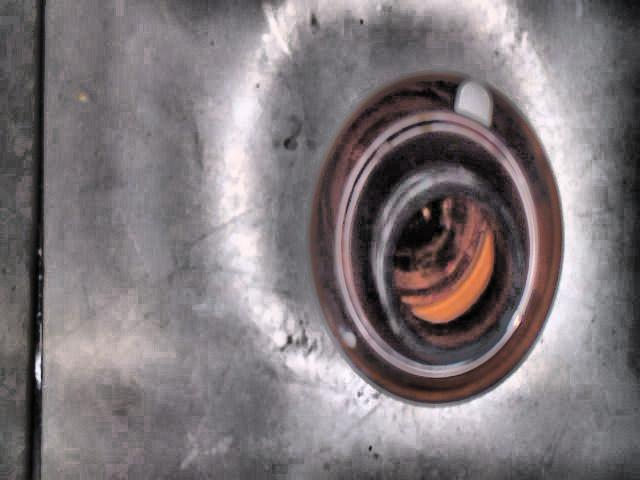Bottles: (307, 72, 565, 403)
